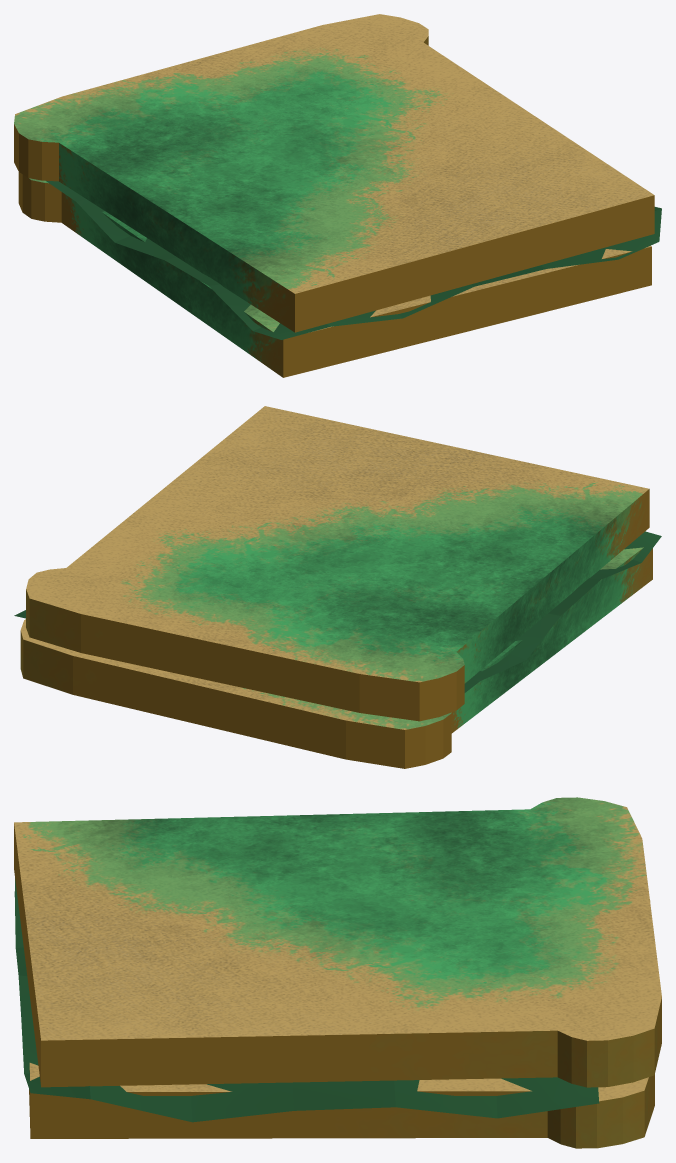
File: bread.fbx
3 views of the same model, one above another, from view 1: azimuth 30°, elevation 25°; view 2: azimuth 150°, elevation 25°; view 3: azimuth 270°, elevation 25° (orthographic). The views are drawn at different scales.
Visible parts, largest first — view 1: Plane.008; view 2: Plane.008; view 3: Plane.008.
Boxes of the visible parts, x1,y1,x2,y2 form: Plane.008: (14, 14, 661, 377); Plane.008: (14, 406, 661, 768); Plane.008: (14, 797, 661, 1148).
Bounding box in the file's own units: 950 × 175 × 1002.
